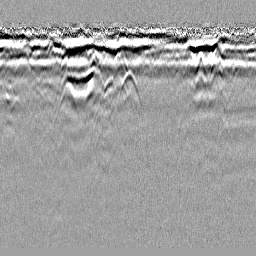cavity: (117, 69, 142, 106)
